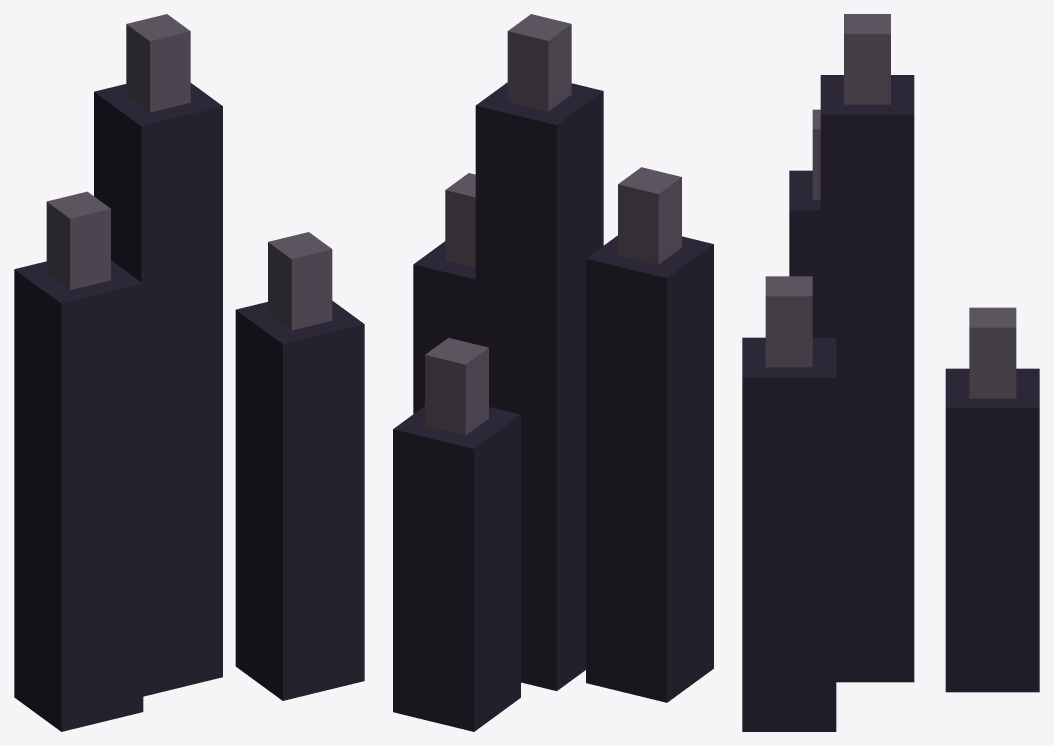
File: ObsidianShards.glb
The picture shows the model from 3 angles, left to right: view 1: azimuth 30°, elevation 25°; view 2: azimuth 150°, elevation 25°; view 3: azimuth 270°, elevation 25°; orthographic projection.
Parts seen in each view (by area): view 1: ObsidianShards; view 2: ObsidianShards; view 3: ObsidianShards.
Boxes of the visible parts, box(x1,y1,x2,y2) form: ObsidianShards: box(14, 14, 364, 731); ObsidianShards: box(393, 14, 713, 731); ObsidianShards: box(742, 14, 1039, 731).
Bounding box in the file's own units: 4.1 × 9 × 3.8.
1 material, 1 textured.
